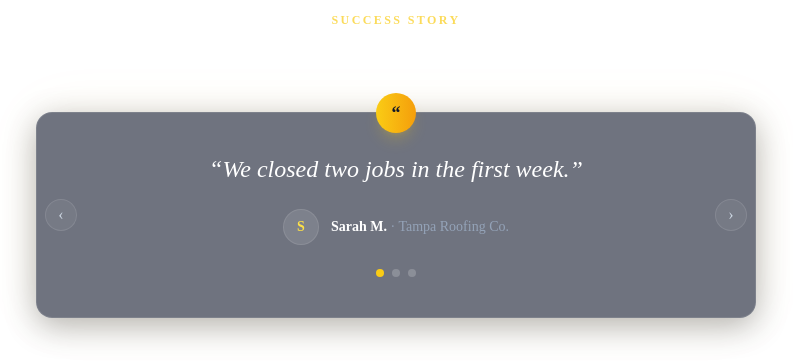
FeaturedTestimonial › goes to the previous testimonial (wrapping to the last) via the prev arrow
Click the button named "previous": point(61, 215) [45,199,77,231]
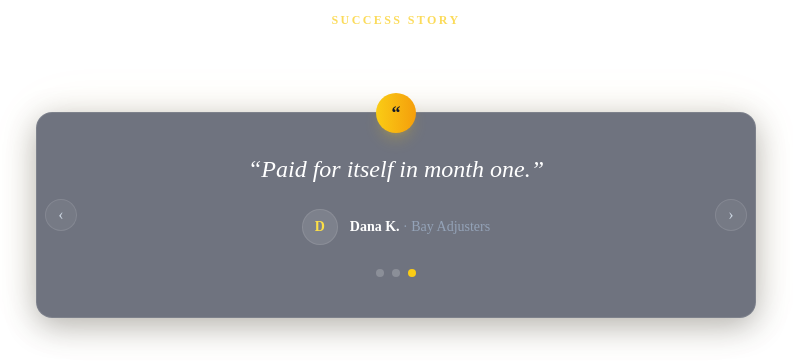
Now the text "“Paid for itself in month one.”" is shown, box [248,156,544,182]
